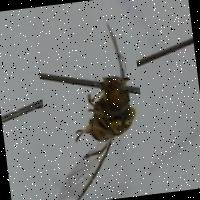Oriental-fruit-fly: (33, 11, 153, 200)
